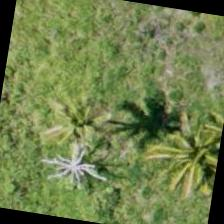Kelapa_Sawit: (31, 61, 134, 164), (145, 110, 223, 210)
